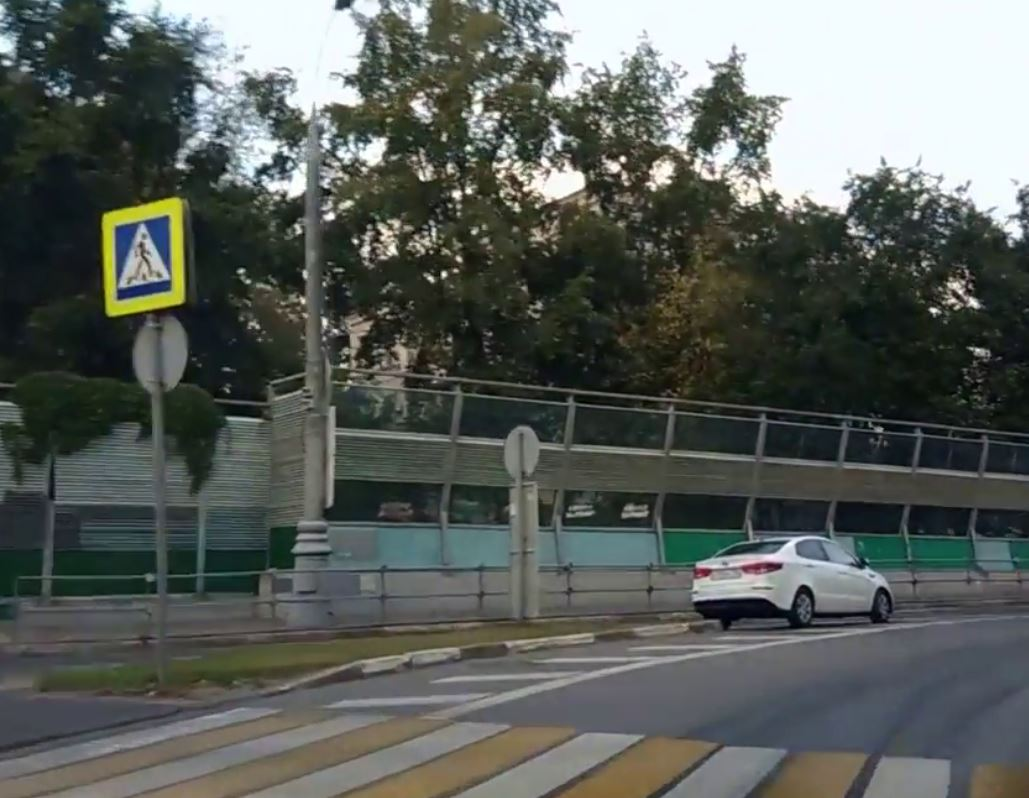Yaya Gecidi: (106, 217, 175, 296)
